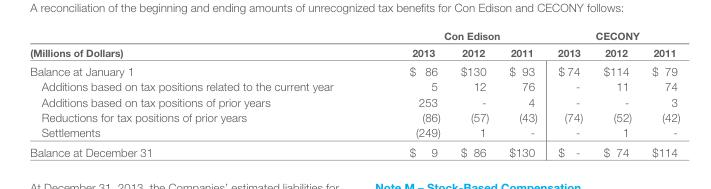table: (29, 29, 679, 158)
table column: (29, 29, 370, 158), (370, 29, 449, 158), (449, 29, 498, 158), (592, 29, 641, 158), (498, 29, 546, 158), (546, 29, 592, 158), (641, 29, 679, 158)
table column header: (29, 29, 679, 61)
table row: (29, 43, 679, 61), (29, 61, 679, 78), (29, 124, 679, 141), (29, 141, 679, 158), (29, 93, 679, 109), (29, 78, 679, 93), (29, 109, 679, 124), (29, 29, 679, 43)
table spanning cell: (29, 29, 370, 61), (370, 29, 546, 43), (546, 29, 679, 43)
